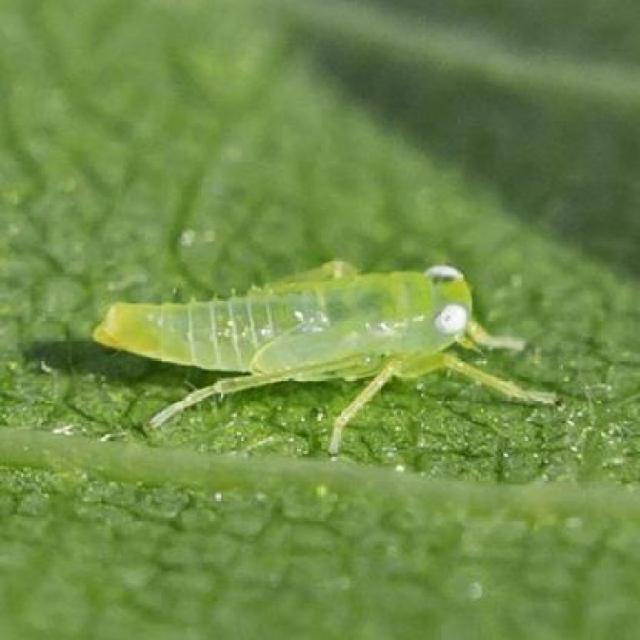green-leafhopper: (100, 264, 522, 433)
